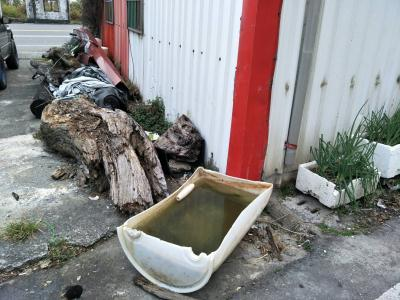bowl: (111, 165, 281, 297)
styrofoam: (296, 159, 379, 208), (354, 131, 400, 178)
